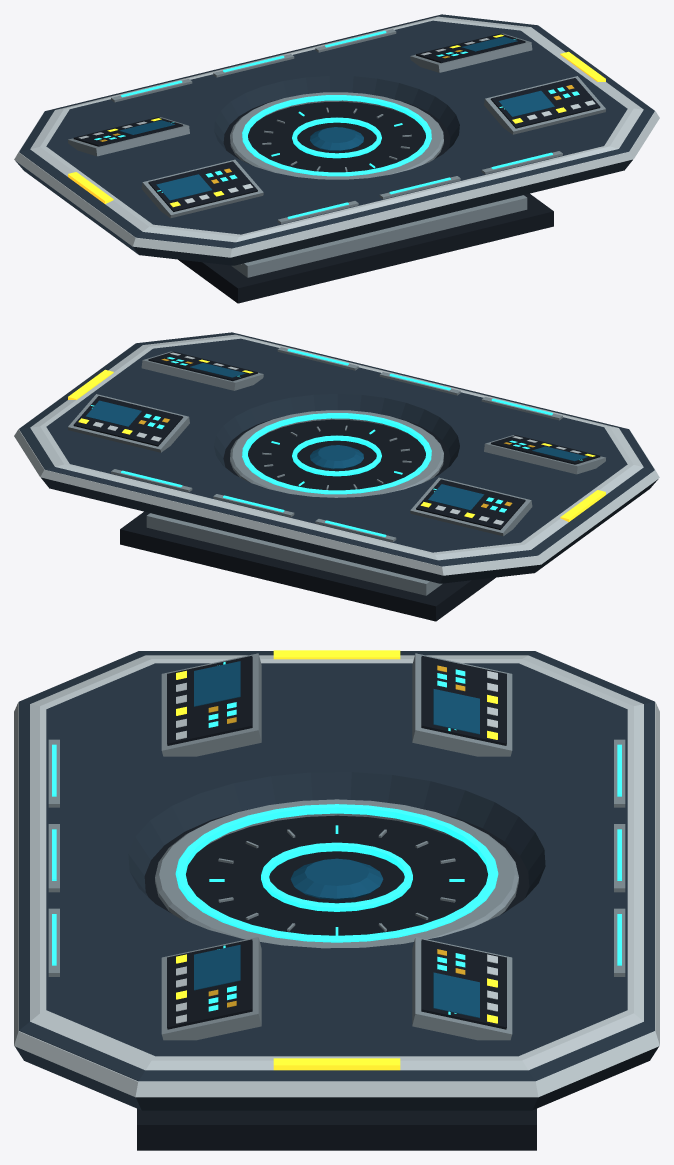
Rendered from command_holotable.glb.
3 renders of one model, top to bottom at view 1: azimuth 30°, elevation 25°; view 2: azimuth 150°, elevation 25°; view 3: azimuth 270°, elevation 25°, orthographic. The views are drawn at different scales.
Visible parts, largest first — view 1: Armored octagonal desk and recessed emitter well, Sloped tactical consoles and control keys, Octagonal pedestal and split support legs; view 2: Armored octagonal desk and recessed emitter well, Sloped tactical consoles and control keys, Octagonal pedestal and split support legs; view 3: Armored octagonal desk and recessed emitter well, Sloped tactical consoles and control keys, Octagonal pedestal and split support legs.
Part boxes in pixels (<box>): Armored octagonal desk and recessed emitter well: <box>14,14,659,265</box>; Sloped tactical consoles and control keys: <box>68,29,605,224</box>; Octagonal pedestal and split support legs: <box>178,193,553,303</box>; Armored octagonal desk and recessed emitter well: <box>14,332,659,583</box>; Sloped tactical consoles and control keys: <box>68,347,605,542</box>; Octagonal pedestal and split support legs: <box>120,511,495,621</box>; Armored octagonal desk and recessed emitter well: <box>14,651,659,1110</box>; Sloped tactical consoles and control keys: <box>48,650,625,1070</box>; Octagonal pedestal and split support legs: <box>137,1108,536,1150</box>.
Bounding box in the file's own units: 8 × 1.6 × 5.
